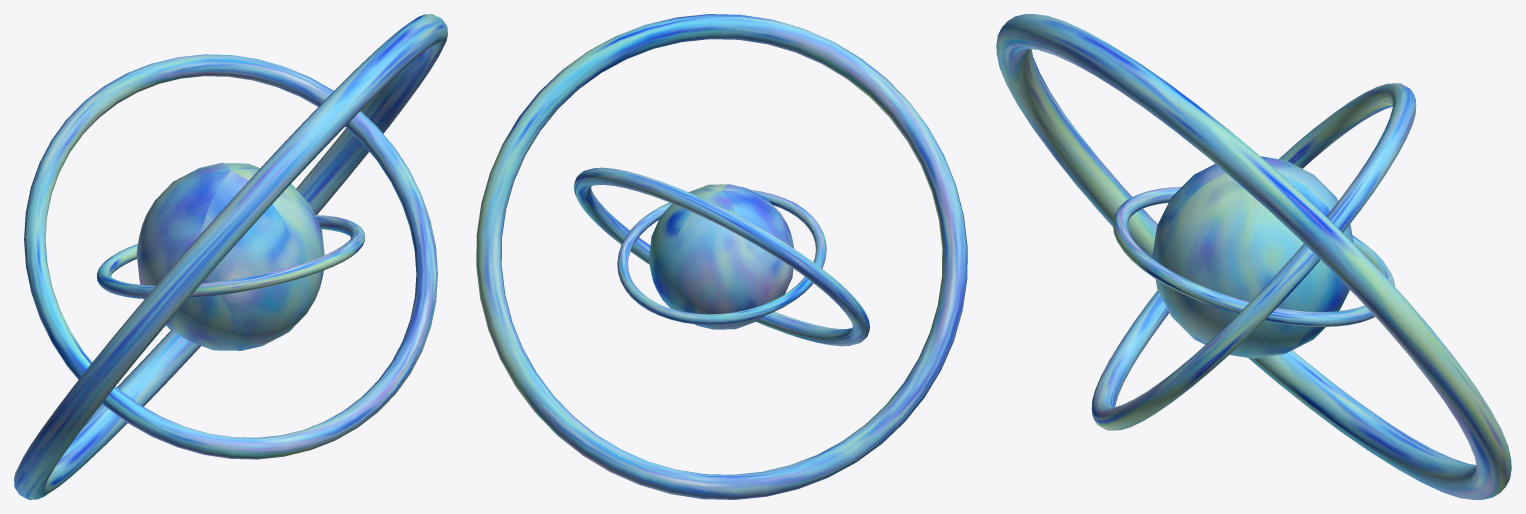
The model's file is special-bubble.glb.
3 renders of one model, left to right at view 1: azimuth 30°, elevation 25°; view 2: azimuth 150°, elevation 25°; view 3: azimuth 270°, elevation 25°, orthographic. The views are drawn at different scales.
Parts seen in each view (by area): view 1: Ring 3, Ring 2, Icosphere, Ring 1; view 2: Ring 3, Icosphere, Ring 2, Ring 1; view 3: Ring 3, Icosphere, Ring 2, Ring 1.
Boxes of the visible parts, x1=… form: Ring 3: x1=14, y1=14, x2=447, y2=499; Ring 2: x1=24, y1=54, x2=437, y2=459; Icosphere: x1=136, y1=163, x2=324, y2=350; Ring 1: x1=96, y1=215, x2=365, y2=298; Ring 3: x1=476, y1=14, x2=967, y2=499; Icosphere: x1=649, y1=184, x2=794, y2=329; Ring 2: x1=574, y1=167, x2=869, y2=346; Ring 1: x1=617, y1=190, x2=826, y2=324; Ring 3: x1=996, y1=14, x2=1511, y2=499; Icosphere: x1=1152, y1=156, x2=1353, y2=358; Ring 2: x1=1091, y1=83, x2=1416, y2=430; Ring 1: x1=1113, y1=187, x2=1394, y2=326.
Bounding box in the file's own units: 5.94 × 5.58 × 5.06.
1 material, 1 textured.
